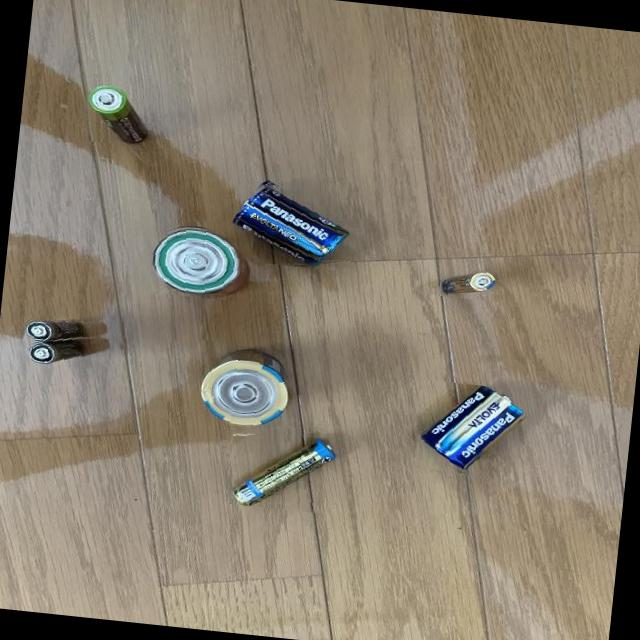Hazard: (227, 174, 361, 272), (410, 379, 530, 485), (224, 424, 342, 515), (188, 339, 294, 435), (138, 220, 253, 302), (81, 78, 156, 148), (19, 333, 91, 378), (438, 260, 503, 302), (22, 314, 88, 354)
